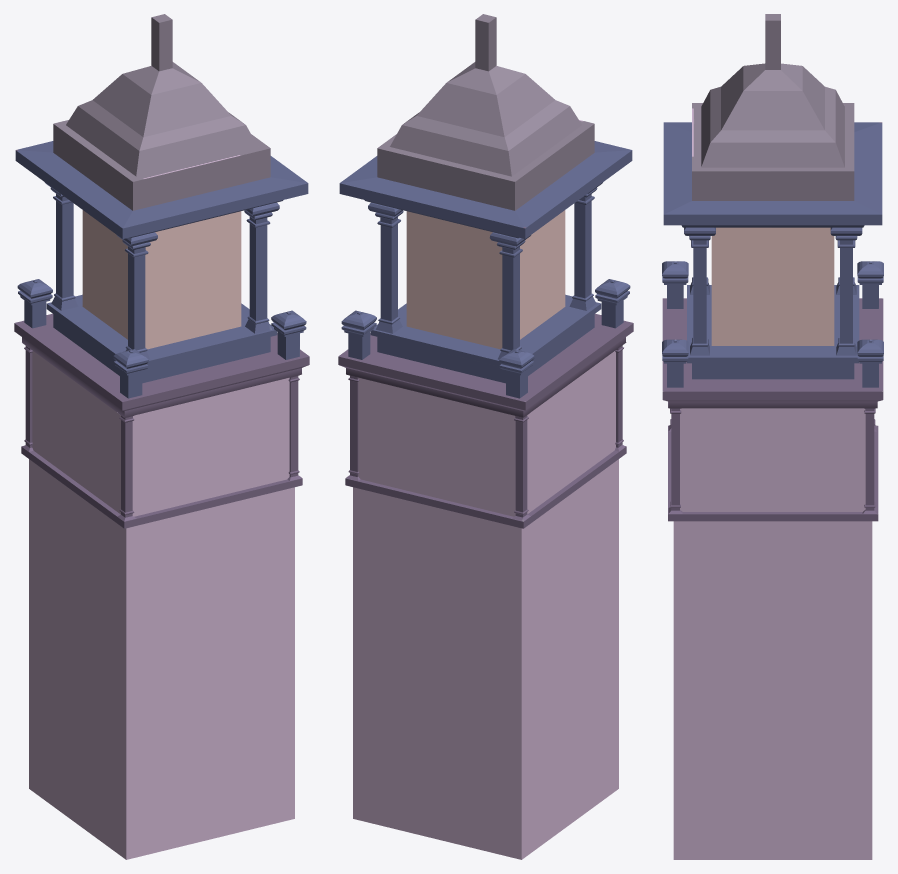
3 renders of one model, left to right at view 1: azimuth 30°, elevation 25°; view 2: azimuth 150°, elevation 25°; view 3: azimuth 270°, elevation 25°, orthographic.
Visible parts, largest first — view 1: pCube14; view 2: pCube14; view 3: pCube14.
Part boxes in pixels (box(x1,y1,x2,y2)): pCube14: box(14, 14, 309, 859); pCube14: box(338, 14, 633, 859); pCube14: box(662, 14, 883, 859).
Size of the model in its own units: 8 by 32.04 by 8.04.
